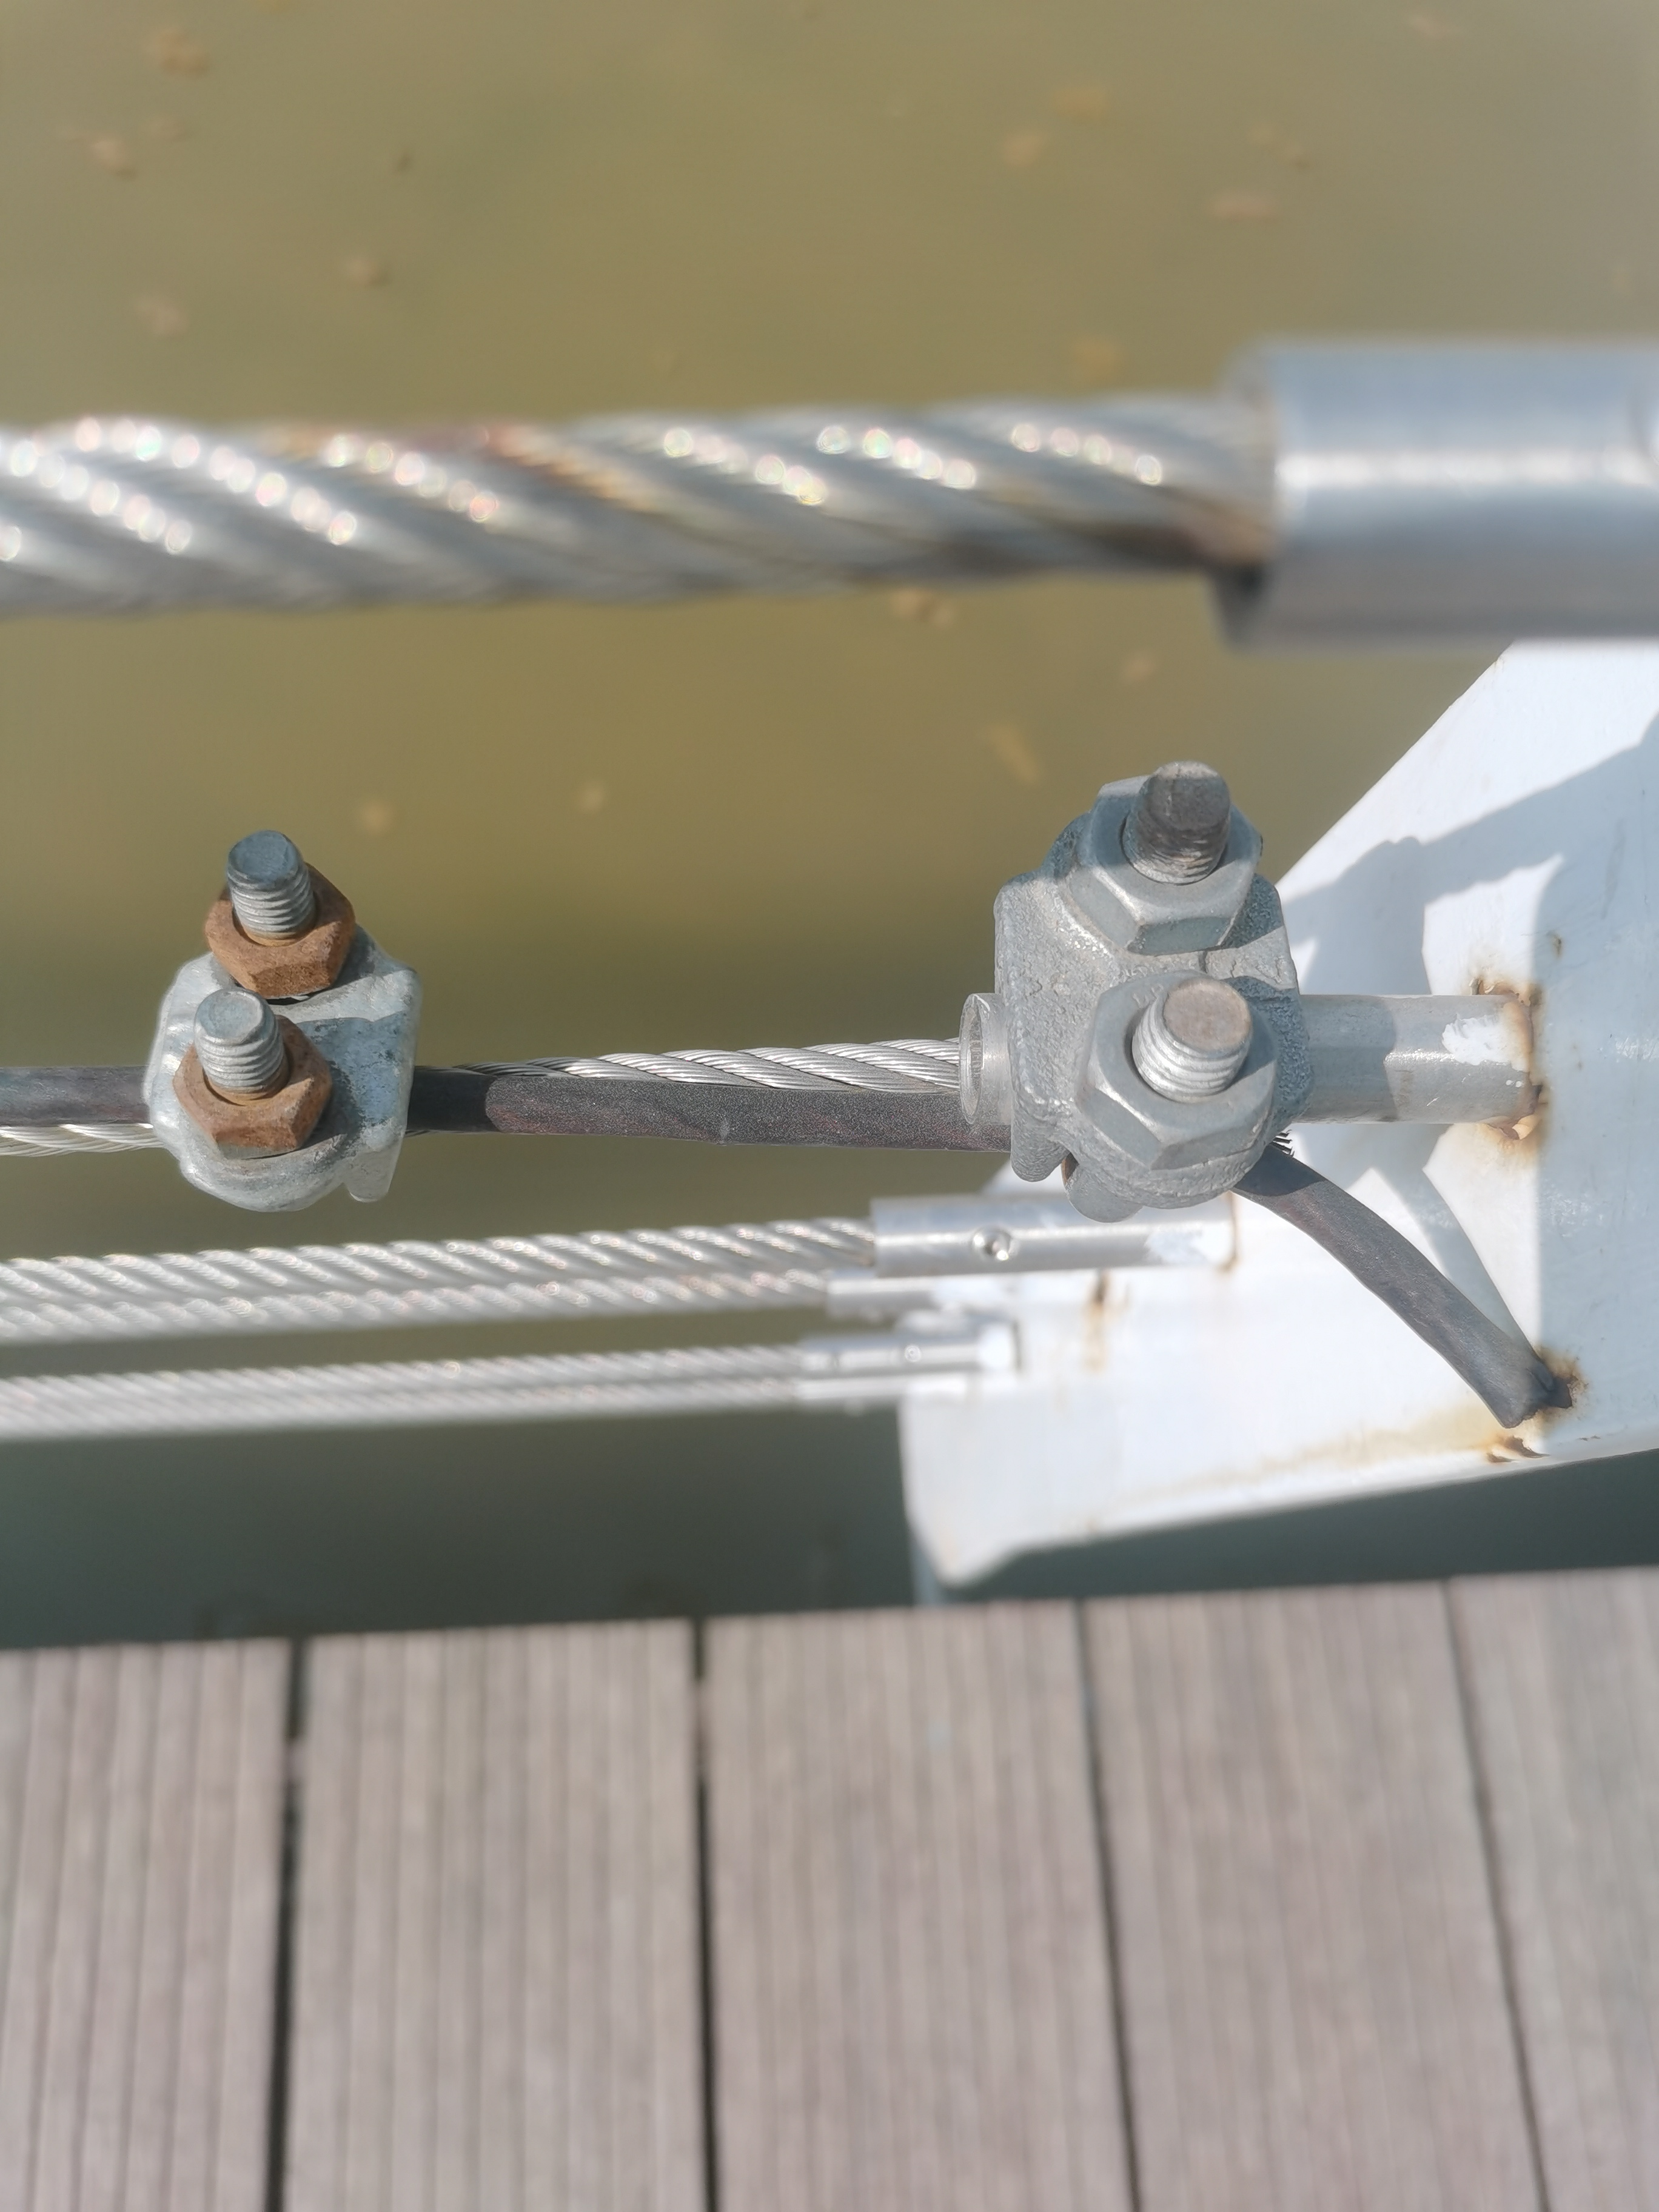bolt_b: (1070, 965, 1286, 1177), (1060, 758, 1267, 961), (167, 1007, 338, 1163), (202, 852, 361, 1005)
